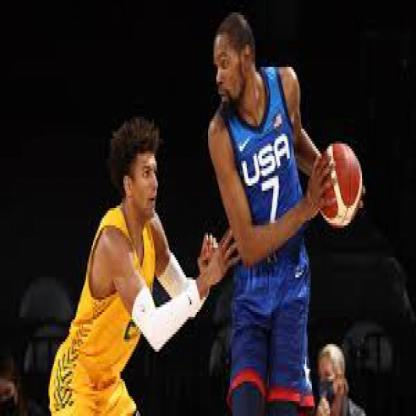basketball: (314, 144, 364, 228)
